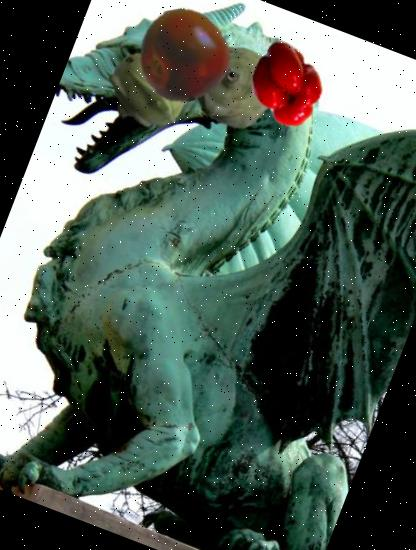Kohlrabi: (173, 24, 292, 142), (95, 36, 202, 143)
Pepper: (237, 36, 335, 134)
Tomato: (123, 0, 244, 116)
